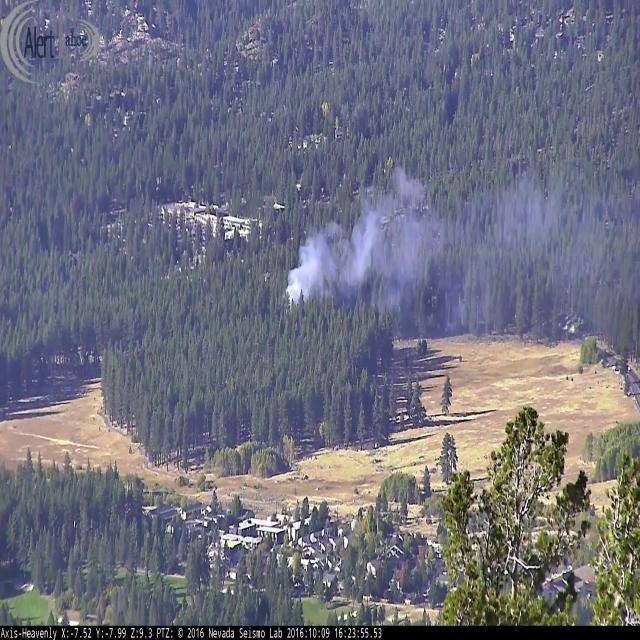smoke: (277, 154, 636, 318)
